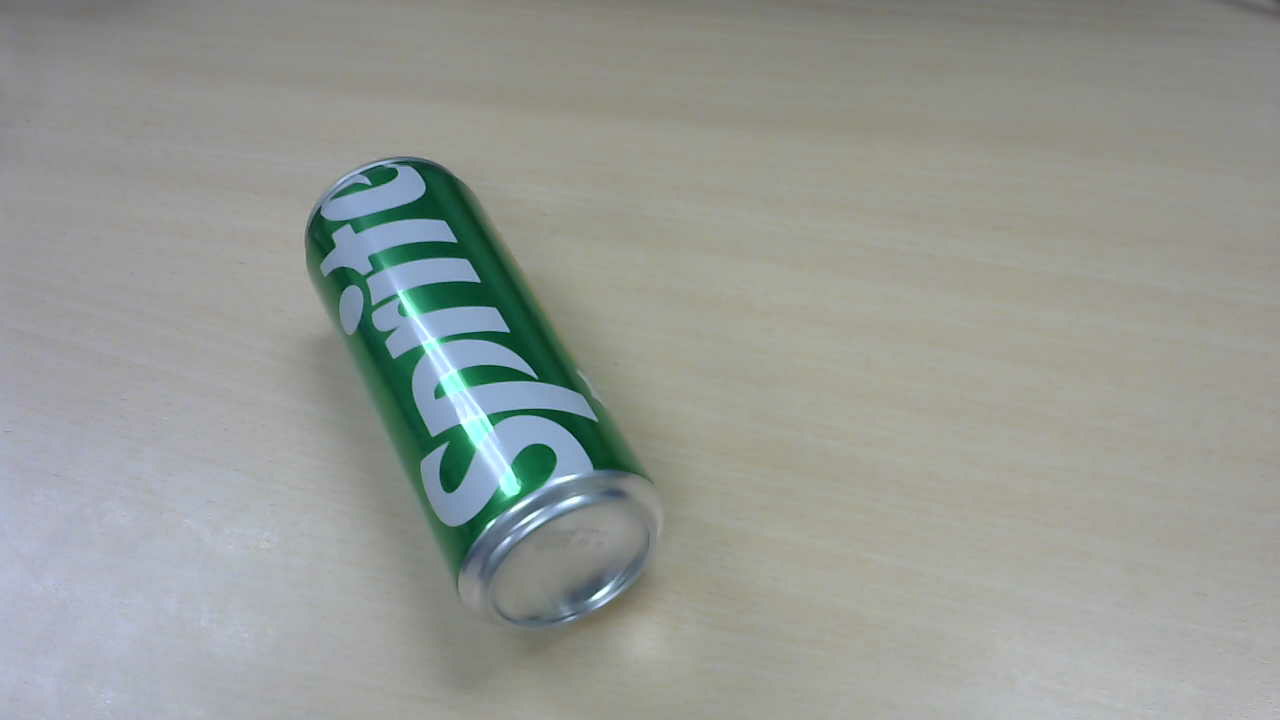Sprite: (305, 163, 663, 638)
